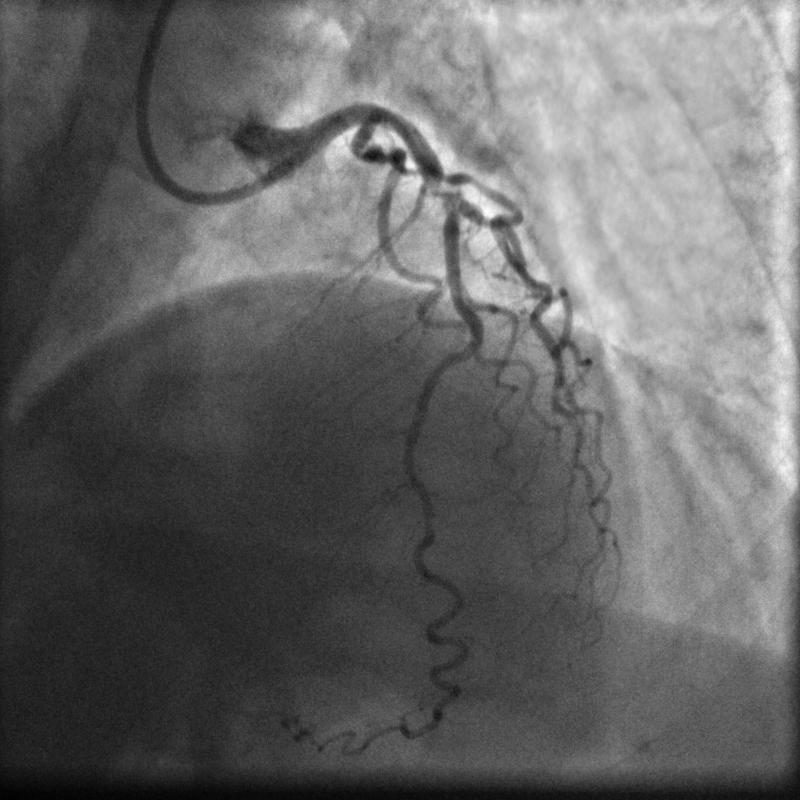Stenosis: (422, 179, 461, 204)
